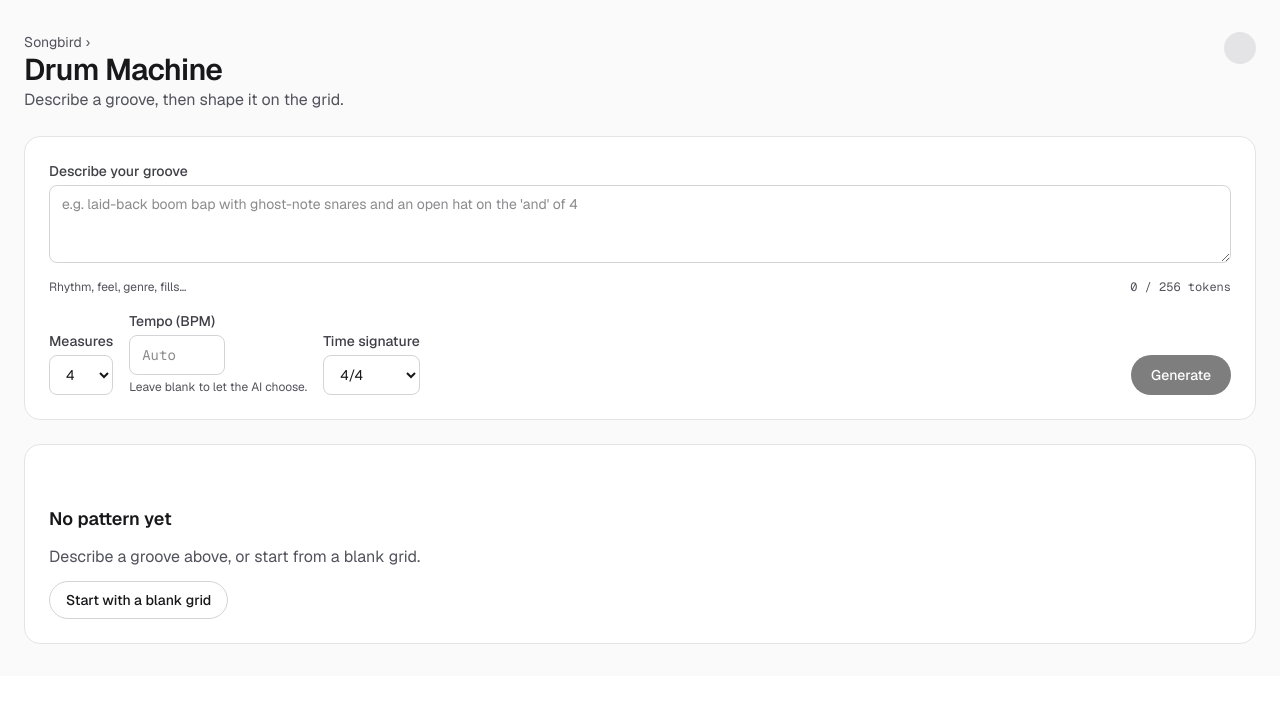
Scenario: prompt form › requests the drums instrument and shows the generated pattern
Expected: the dropdown labelled "Measures" is enabled, [49,355,113,395]
Type "funky" into the text box labelled "Describe your groove". click: [640, 224]
box: [49,185,1231,263]
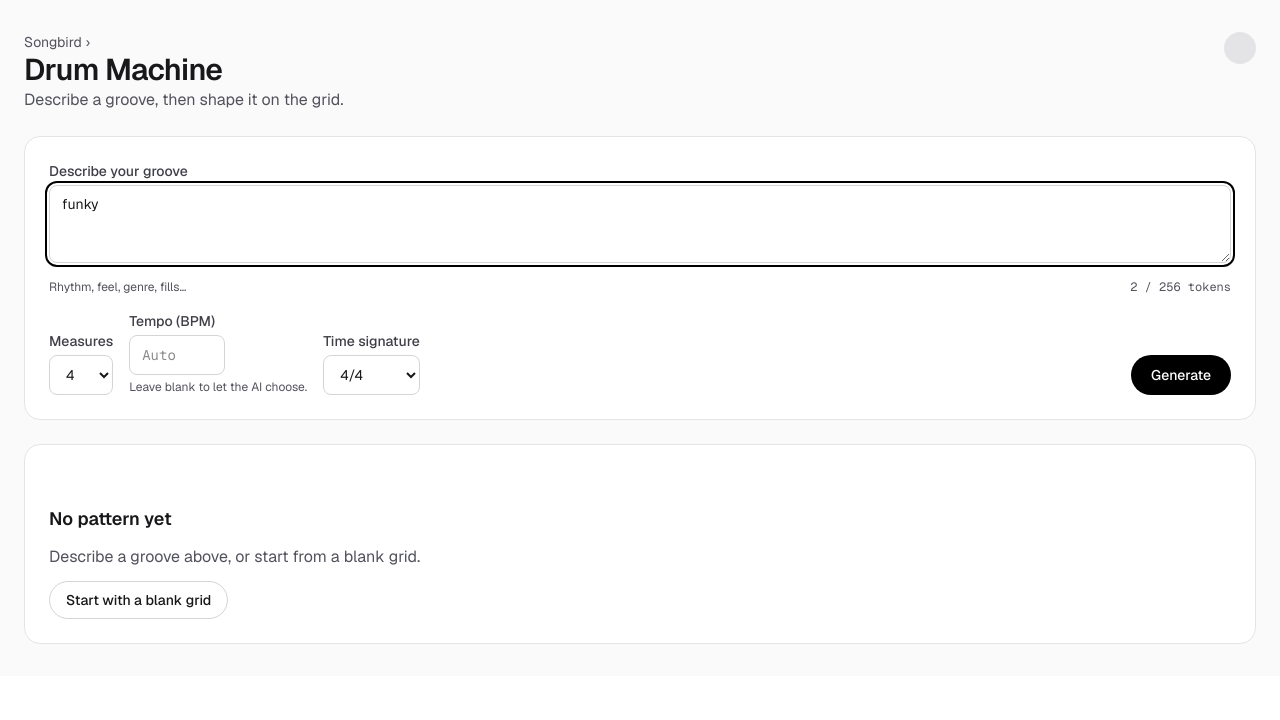
Type "100" into the number field labelled "Tempo (BPM)". click: [177, 355]
box: [129,335,225,375]
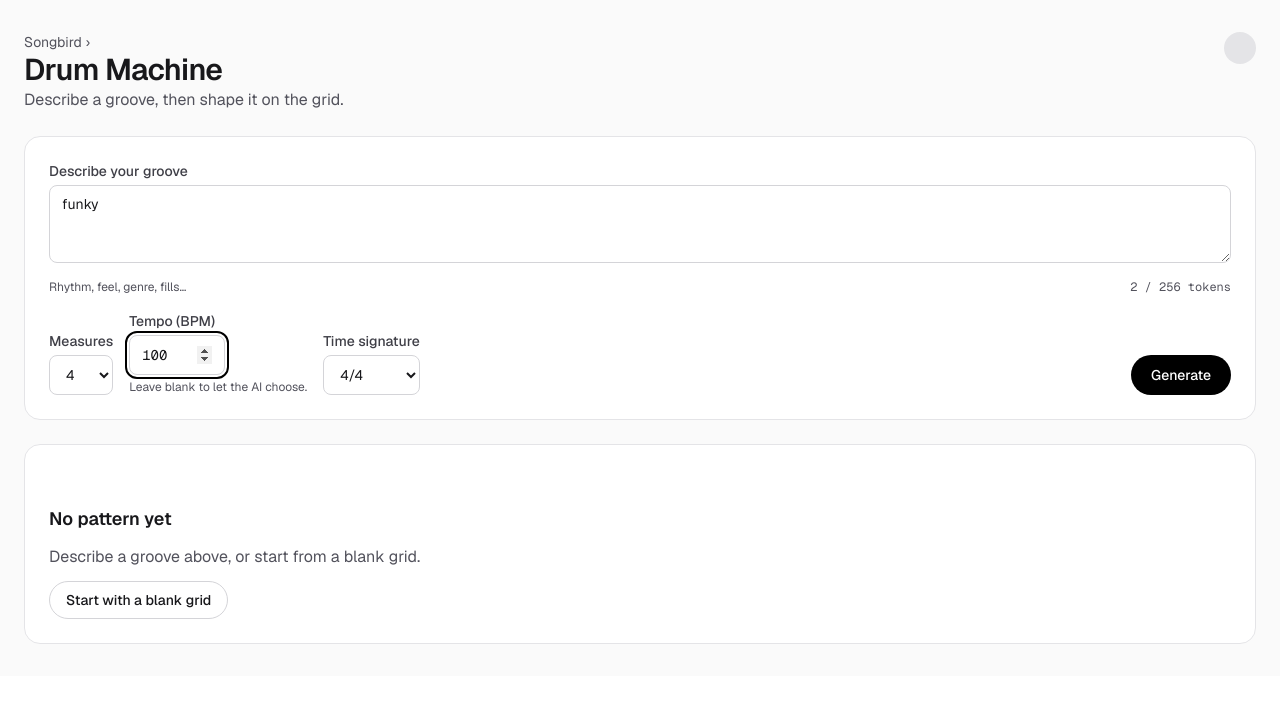
Click the button "Generate". click: [1181, 375]
box: [1131,355,1231,395]
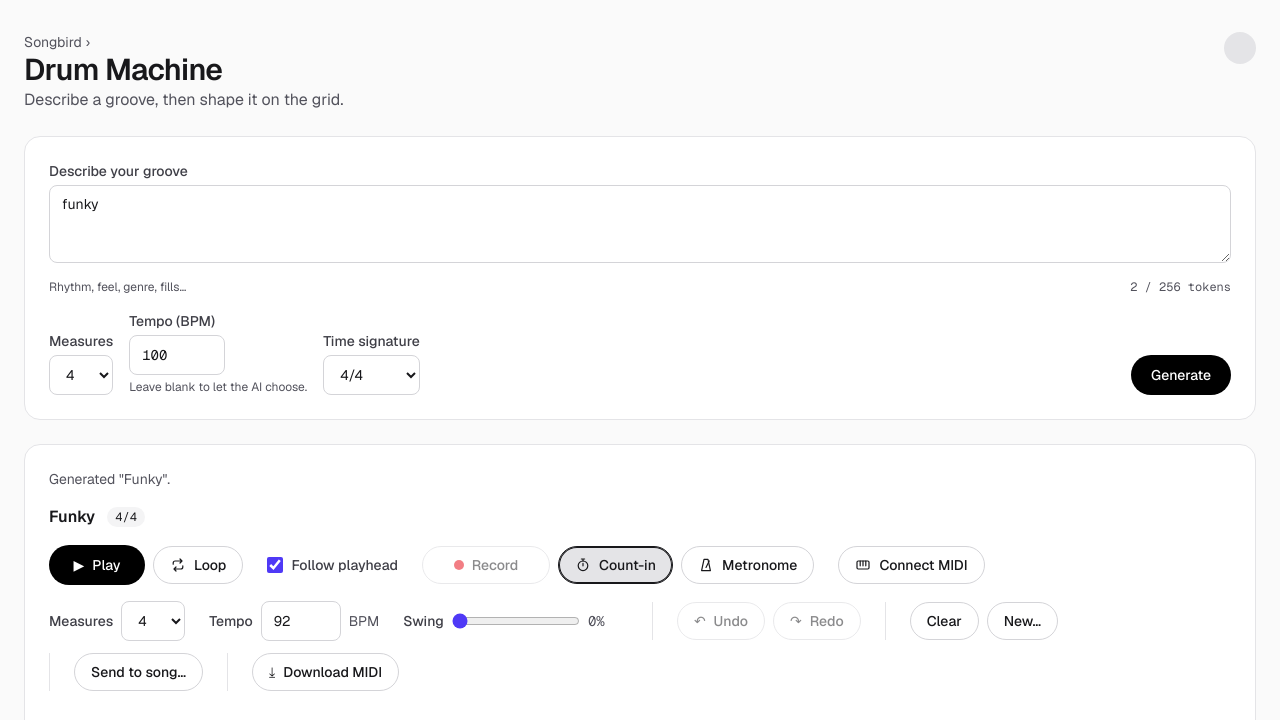
Expected: the message reads "Generated \"Funky\".", [49,470,170,488]
